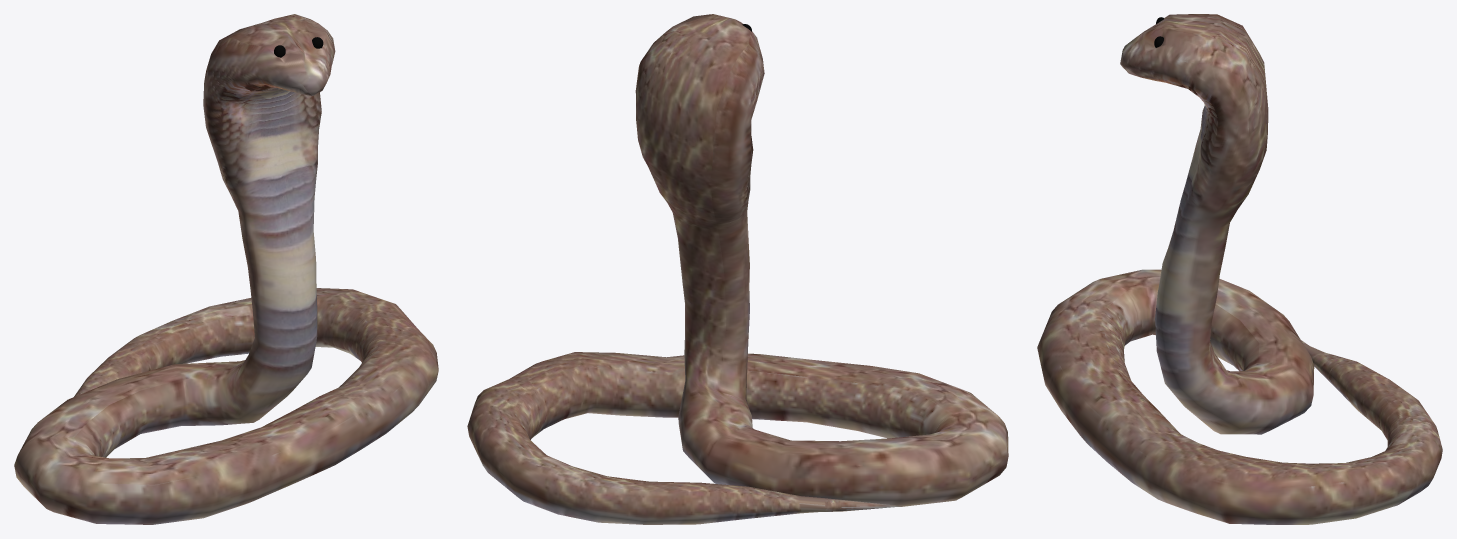
File: snake.fbx
The picture shows the model from 3 angles, left to right: view 1: azimuth 30°, elevation 25°; view 2: azimuth 150°, elevation 25°; view 3: azimuth 270°, elevation 25°; orthographic projection. The views are drawn at different scales.
Parts seen in each view (by area): view 1: NurbsPath.002; view 2: NurbsPath.002; view 3: NurbsPath.002.
Part boxes in pixels (x1,y1,x2,y2): NurbsPath.002: [14, 14, 438, 524]; NurbsPath.002: [467, 14, 1008, 524]; NurbsPath.002: [1037, 14, 1442, 524].
Bounding box in the file's own units: 877 × 780 × 661.
Materials: 3 (1 with a texture image).
